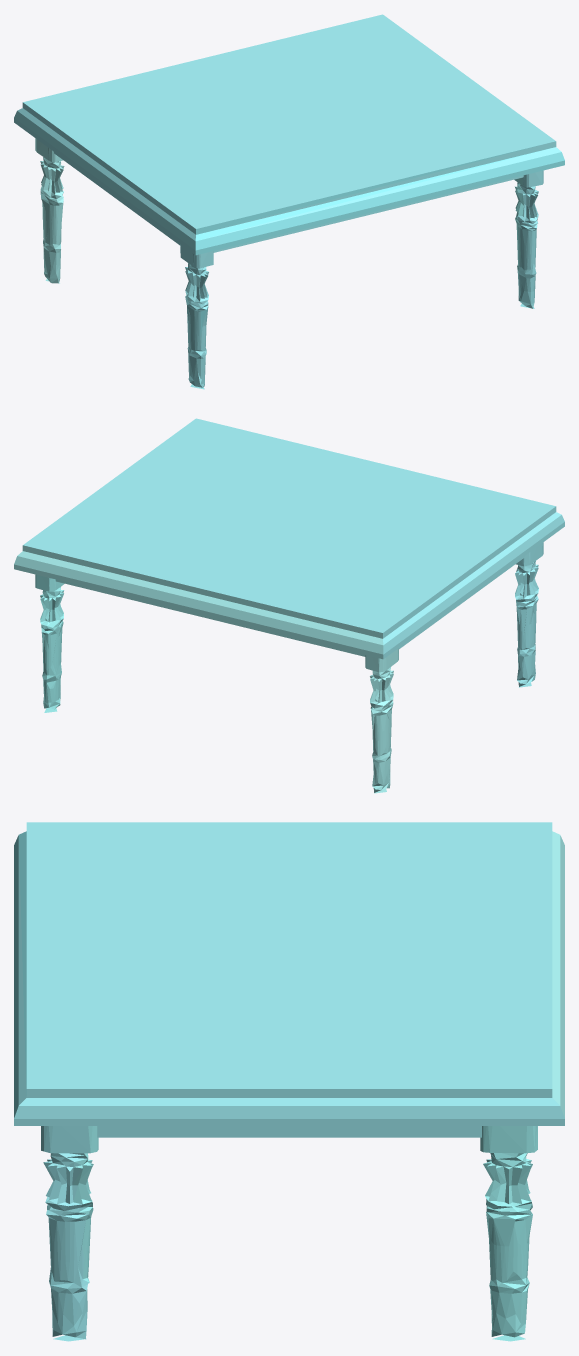
File: tableBlue1x1x0.5m.dae
The picture shows the model from 3 angles, top to bottom: view 1: azimuth 30°, elevation 25°; view 2: azimuth 150°, elevation 25°; view 3: azimuth 270°, elevation 25°; orthographic projection. The views are drawn at different scales.
Parts seen in each view (by area): view 1: tableBlue1x1x0.5m; view 2: tableBlue1x1x0.5m; view 3: tableBlue1x1x0.5m.
Boxes of the visible parts, x1=… form: tableBlue1x1x0.5m: x1=14, y1=14, x2=564, y2=389; tableBlue1x1x0.5m: x1=14, y1=418, x2=564, y2=793; tableBlue1x1x0.5m: x1=14, y1=822, x2=564, y2=1341.
Bounding box in the file's own units: 1.23 × 1.05 × 0.5456.
